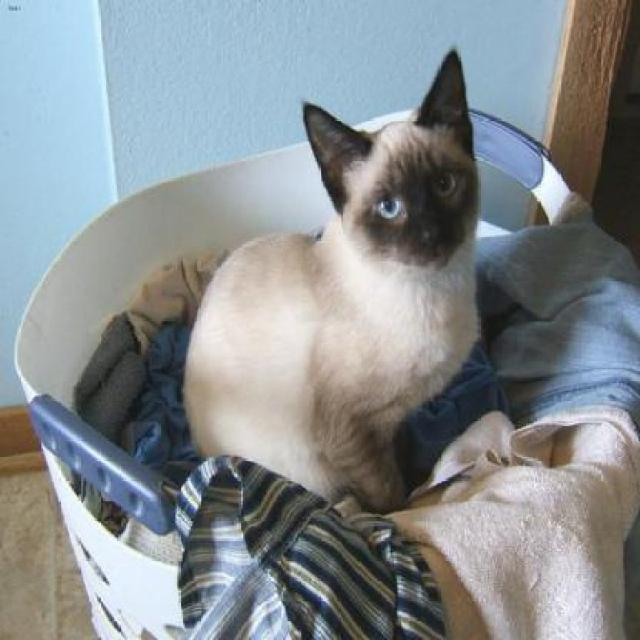cat: (185, 46, 481, 516)
